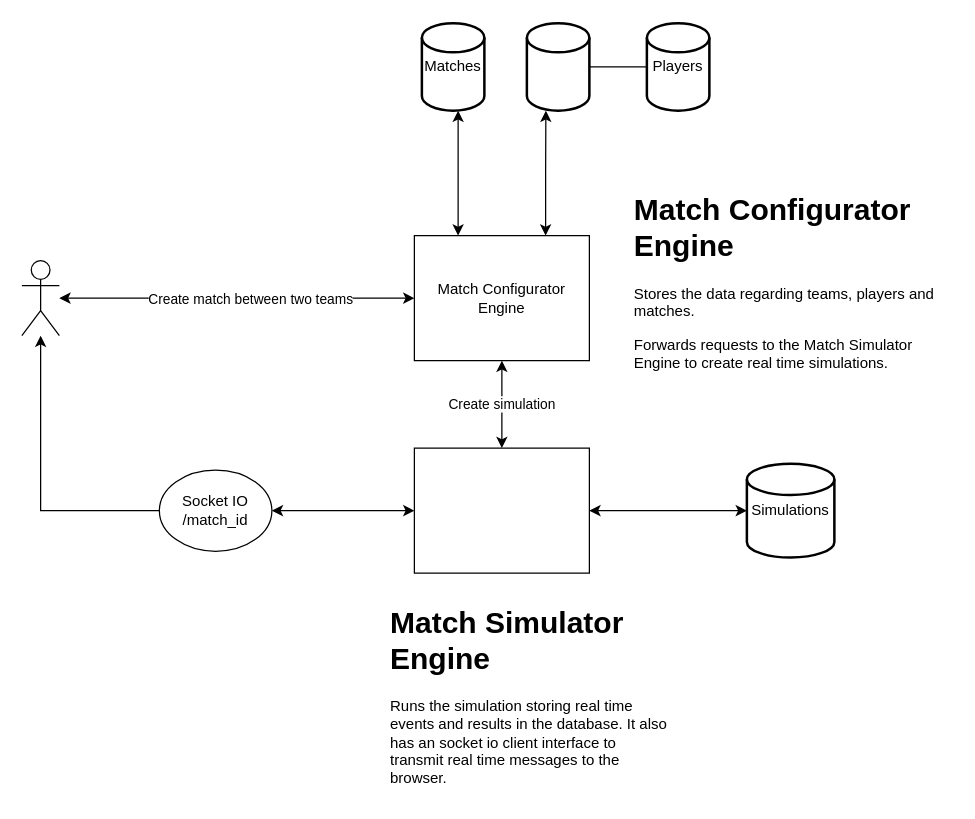
Image size: 975x819. Some labels were removed from this diagram. Each missing label, with the centre of its shape:
"Match Simulator Engine" belongs at [501,510].
"Teams" belongs at [557,66].
